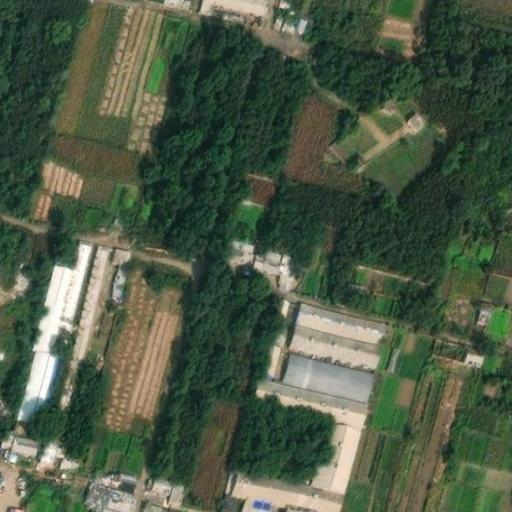building: (53, 236, 111, 410), (229, 458, 343, 512), (280, 342, 374, 398), (252, 372, 365, 417), (43, 228, 96, 313), (309, 408, 362, 485), (289, 318, 380, 362), (295, 294, 385, 338), (16, 343, 59, 419), (252, 245, 299, 289), (34, 305, 76, 352), (35, 435, 82, 473), (145, 474, 189, 512), (270, 297, 298, 340), (237, 490, 279, 512), (107, 260, 130, 300), (7, 431, 40, 456), (201, 0, 269, 10), (227, 232, 257, 254), (282, 500, 335, 512), (402, 325, 423, 352), (477, 298, 498, 322)
